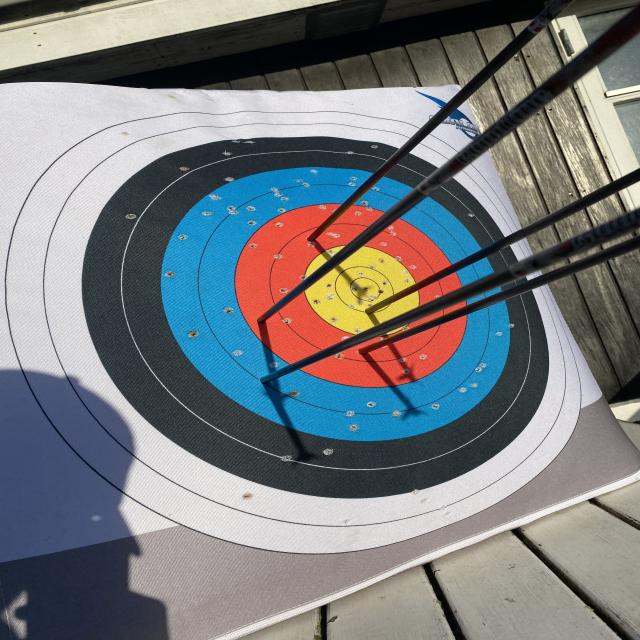Arrow_Blue: (244, 362, 300, 404)
Arrow_Red: (234, 300, 292, 338), (336, 333, 388, 367), (285, 217, 332, 253)
Arrow_Yellow: (347, 293, 398, 326)
